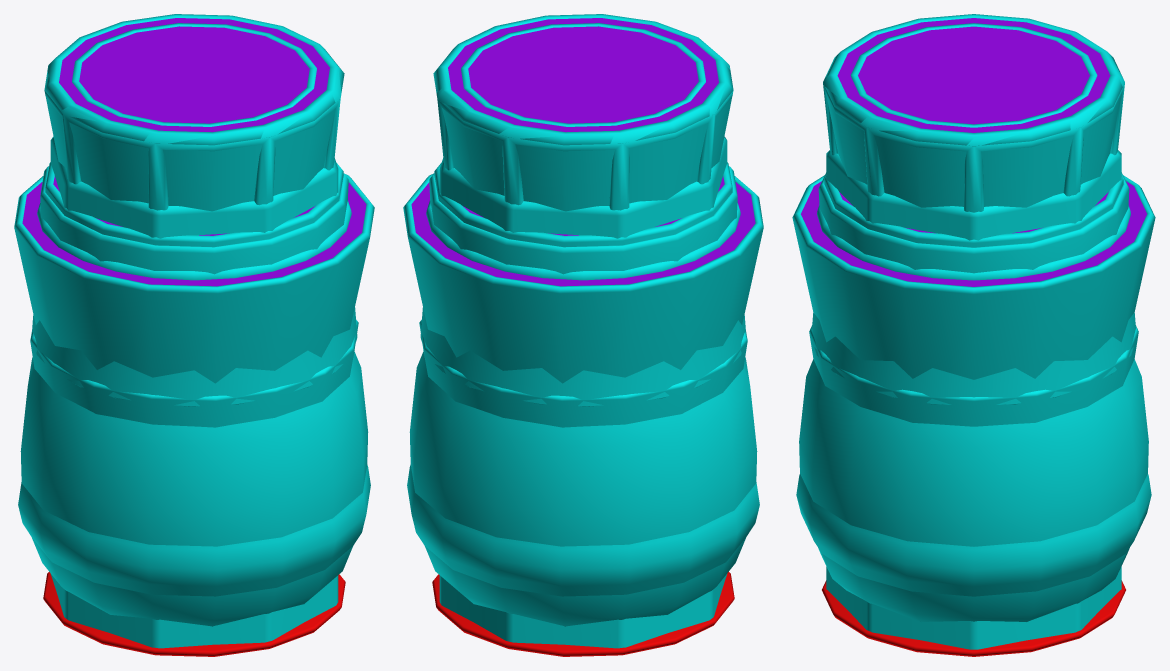
The model's file is cups_grp.fbx.
The picture shows the model from 3 angles, left to right: view 1: azimuth 30°, elevation 25°; view 2: azimuth 150°, elevation 25°; view 3: azimuth 270°, elevation 25°; orthographic projection.
Visible parts, largest first — view 1: cup_28, cup_25, cup_liquid_volume_19, cup_19, cup_29, cup_11, cup_21, cup_liquid_volume_21, cup_13, cup_26, cup_17, cup_liquid_volume_25 (+3 smaller); view 2: cup_28, cup_25, cup_liquid_volume_19, cup_19, cup_29, cup_11, cup_21, cup_liquid_volume_21, cup_13, cup_26, cup_17, cup_liquid_volume_25 (+3 smaller); view 3: cup_28, cup_25, cup_liquid_volume_19, cup_19, cup_29, cup_11, cup_liquid_volume_21, cup_21, cup_13, cup_26, cup_17, cup_liquid_volume_25 (+3 smaller).
Part boxes in pixels (<box>): cup_28: <box>20,351,368,626</box>; cup_25: <box>14,173,374,383</box>; cup_liquid_volume_19: <box>59,18,329,132</box>; cup_19: <box>43,14,345,656</box>; cup_29: <box>18,465,370,626</box>; cup_11: <box>50,136,338,648</box>; cup_21: <box>44,15,345,656</box>; cup_liquid_volume_21: <box>62,18,329,132</box>; cup_13: <box>30,319,358,427</box>; cup_26: <box>40,166,348,274</box>; cup_17: <box>32,308,357,406</box>; cup_liquid_volume_25: <box>22,182,366,286</box>; cup_28: <box>409,351,757,626</box>; cup_25: <box>403,173,763,383</box>; cup_liquid_volume_19: <box>448,18,718,131</box>; cup_19: <box>432,14,734,656</box>; cup_29: <box>407,465,759,626</box>; cup_11: <box>439,136,727,648</box>; cup_21: <box>433,15,733,656</box>; cup_liquid_volume_21: <box>448,18,716,132</box>; cup_13: <box>419,319,747,427</box>; cup_26: <box>429,166,737,274</box>; cup_17: <box>420,308,745,406</box>; cup_liquid_volume_25: <box>411,182,755,286</box>; cup_28: <box>799,359,1148,621</box>; cup_25: <box>792,175,1155,379</box>; cup_liquid_volume_19: <box>837,18,1110,132</box>; cup_19: <box>823,14,1124,656</box>; cup_29: <box>796,474,1151,621</box>; cup_11: <box>826,150,1121,649</box>; cup_liquid_volume_21: <box>838,18,1109,132</box>; cup_21: <box>822,15,1125,656</box>; cup_13: <box>809,325,1138,426</box>; cup_26: <box>818,172,1129,273</box>; cup_17: <box>812,312,1135,404</box>; cup_liquid_volume_25: <box>801,181,1146,286</box>.
Size of the model in its own units: 13.71 by 21.62 by 13.71.
